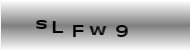9: (115, 24, 128, 38)
F: (71, 24, 84, 37)
L: (50, 20, 64, 34)
s: (35, 19, 48, 29)
w: (88, 25, 107, 35)
